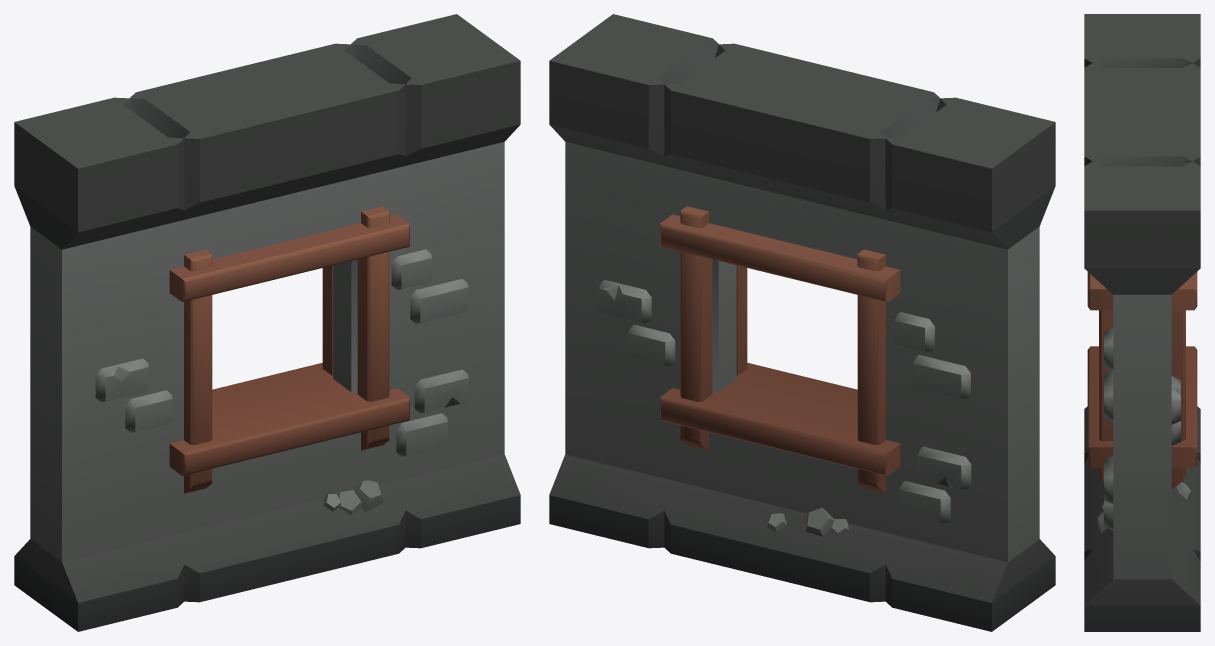
Rendered from wall-window-open.glb.
3 renders of one model, left to right at view 1: azimuth 30°, elevation 25°; view 2: azimuth 150°, elevation 25°; view 3: azimuth 270°, elevation 25°, orthographic. The views are drawn at different scales.
Visible parts, largest first — view 1: wall-window-open; view 2: wall-window-open; view 3: wall-window-open.
Boxes of the visible parts, x1=… form: wall-window-open: x1=14, y1=14, x2=520, y2=631; wall-window-open: x1=549, y1=14, x2=1055, y2=631; wall-window-open: x1=1084, y1=14, x2=1200, y2=631.
Size of the model in its own units: 3 by 3 by 0.7501.
